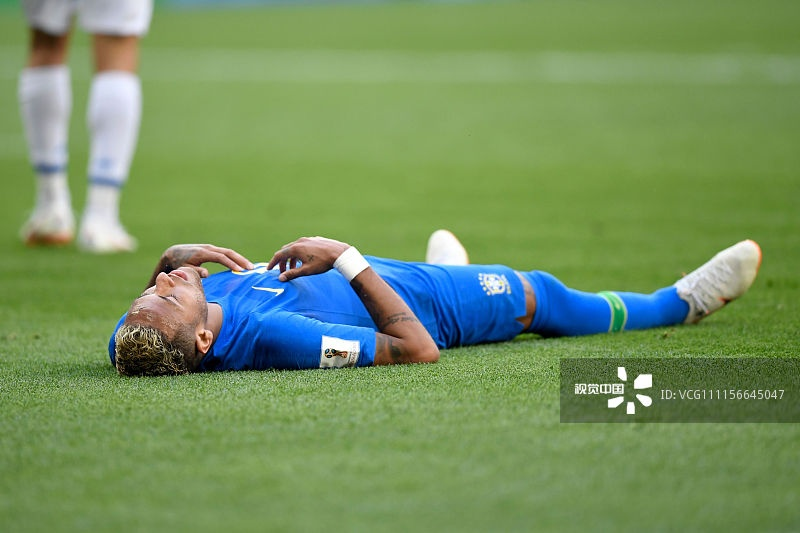falling: (100, 218, 760, 370)
